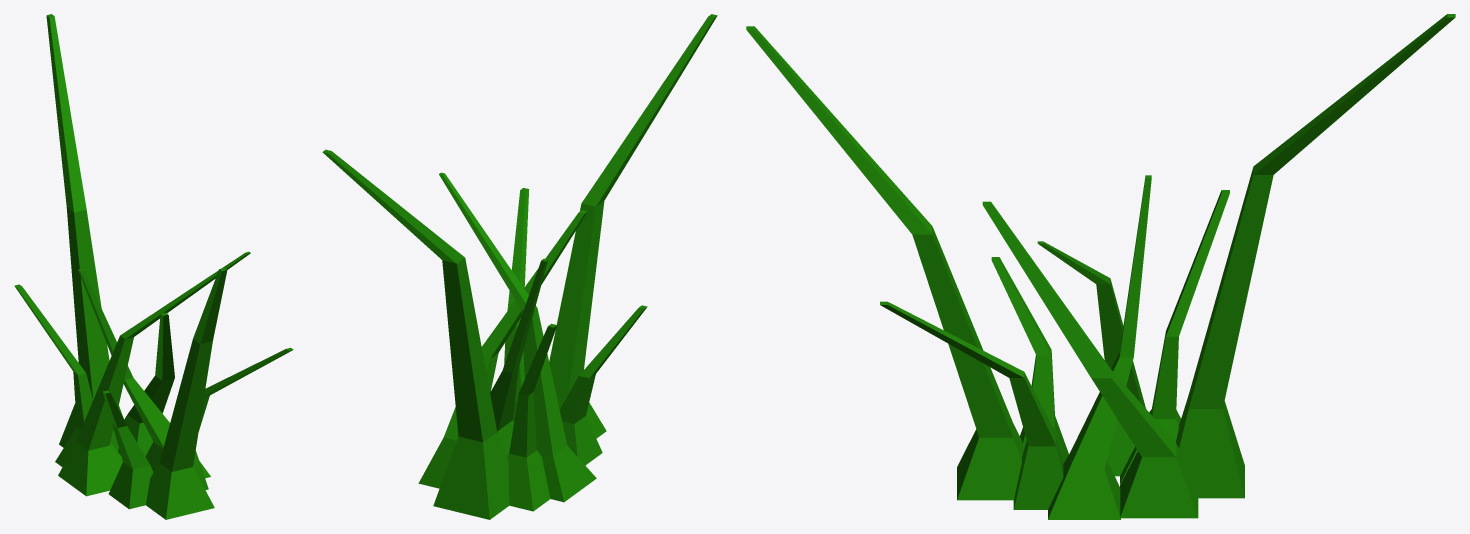
The model's file is GrassUV.fbx.
The picture shows the model from 3 angles, left to right: view 1: azimuth 30°, elevation 25°; view 2: azimuth 150°, elevation 25°; view 3: azimuth 270°, elevation 25°; orthographic projection. The views are drawn at different scales.
Parts seen in each view (by area): view 1: Cube; view 2: Cube; view 3: Cube.
Boxes of the visible parts, x1=… form: Cube: x1=14, y1=14, x2=293, y2=519; Cube: x1=322, y1=14, x2=717, y2=519; Cube: x1=746, y1=14, x2=1455, y2=519.
Size of the model in its own units: 29.97 by 61.22 by 79.59.
